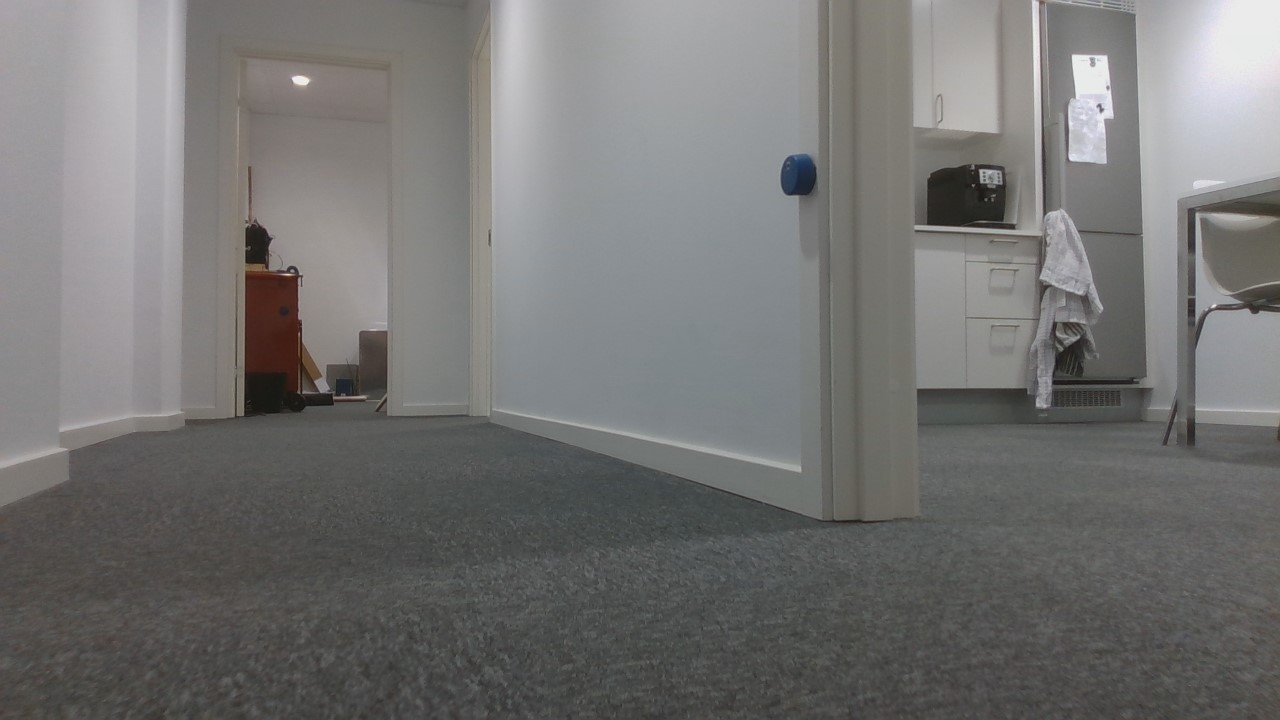alfa: (779, 153, 820, 200)
